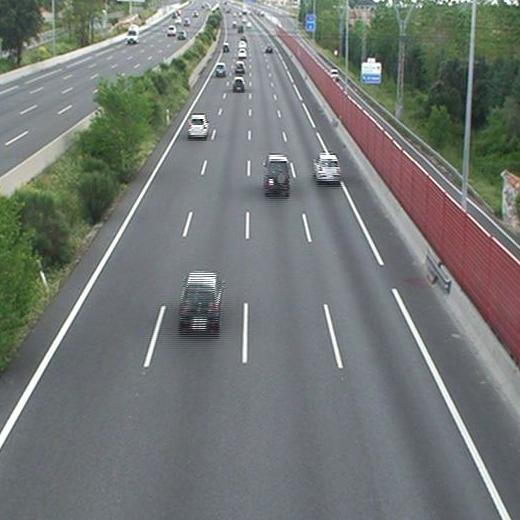car: (180, 273, 220, 328), (264, 156, 290, 192), (314, 154, 340, 181), (187, 114, 208, 135), (232, 77, 245, 91), (215, 63, 227, 76), (234, 61, 245, 73), (237, 48, 247, 57)
